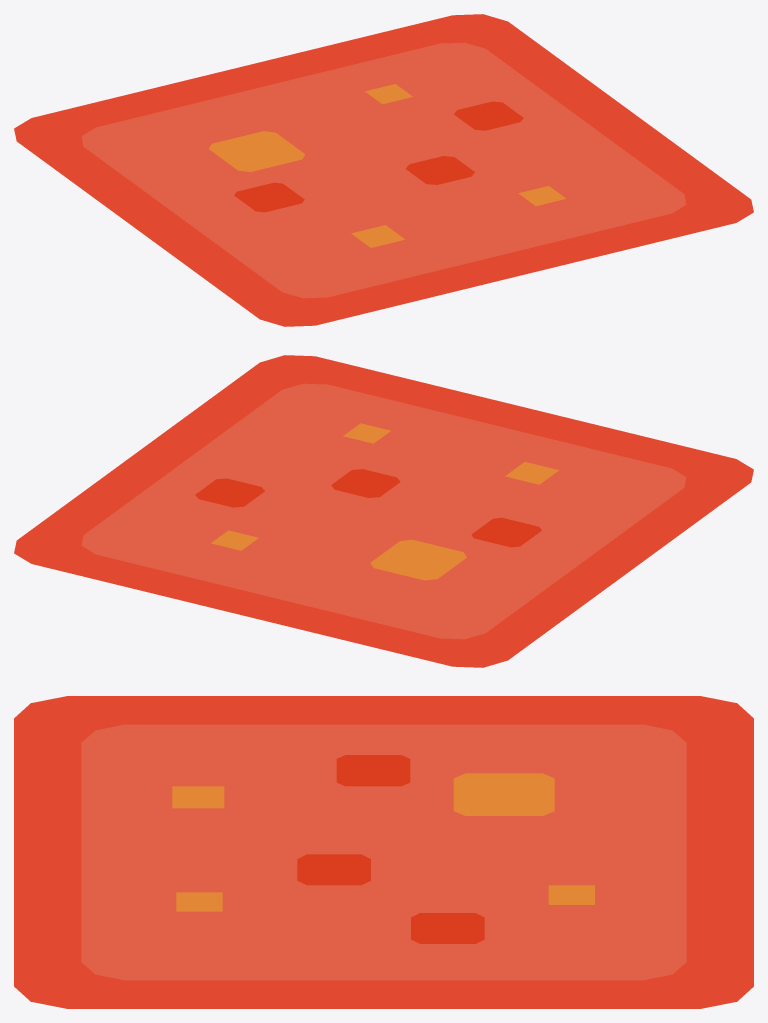
File: cgRedStew.obj
The picture shows the model from 3 angles, top to bottom: view 1: azimuth 30°, elevation 25°; view 2: azimuth 150°, elevation 25°; view 3: azimuth 270°, elevation 25°; orthographic projection. The views are drawn at different scales.
Parts seen in each view (by area): view 1: cgRedStew; view 2: cgRedStew; view 3: cgRedStew.
Boxes of the visible parts, bbox=[...] form: cgRedStew: bbox=[14, 14, 753, 326]; cgRedStew: bbox=[14, 355, 753, 667]; cgRedStew: bbox=[14, 696, 753, 1008].
Bounding box in the file's own units: 3.5 × 0.033 × 3.5.
Materials: 1 (1 with a texture image).
